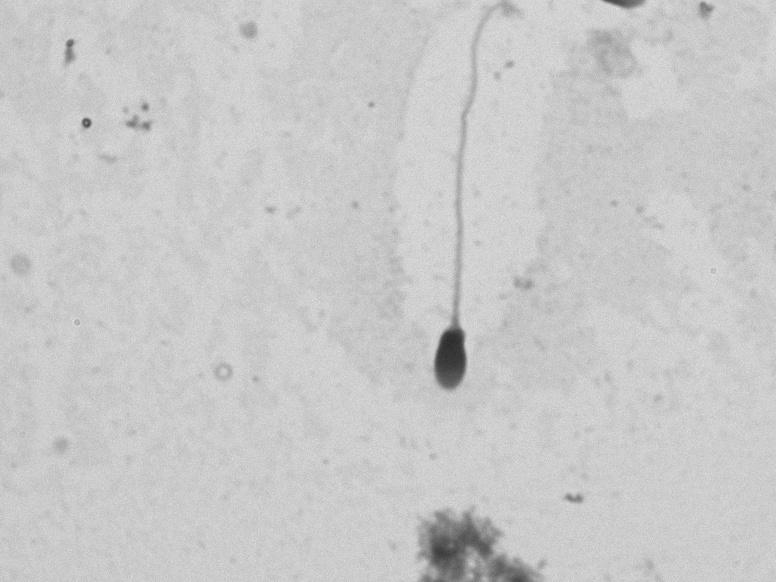Abnormal: (393, 14, 538, 413)
